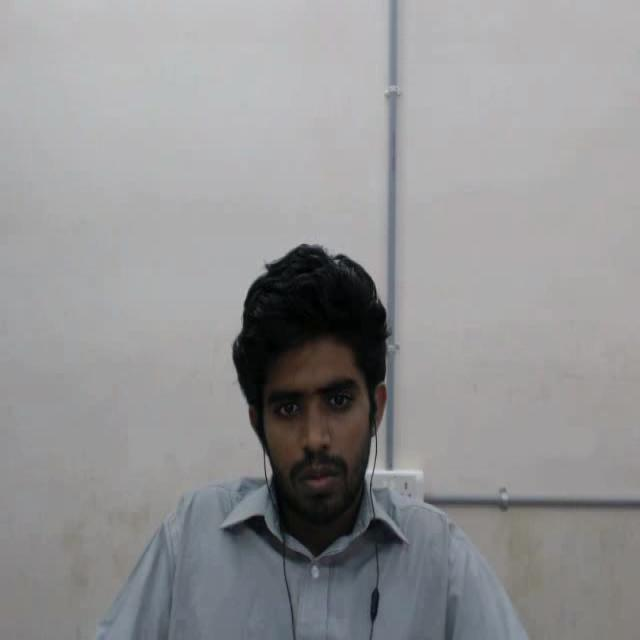Engaged: (195, 199, 424, 563)
